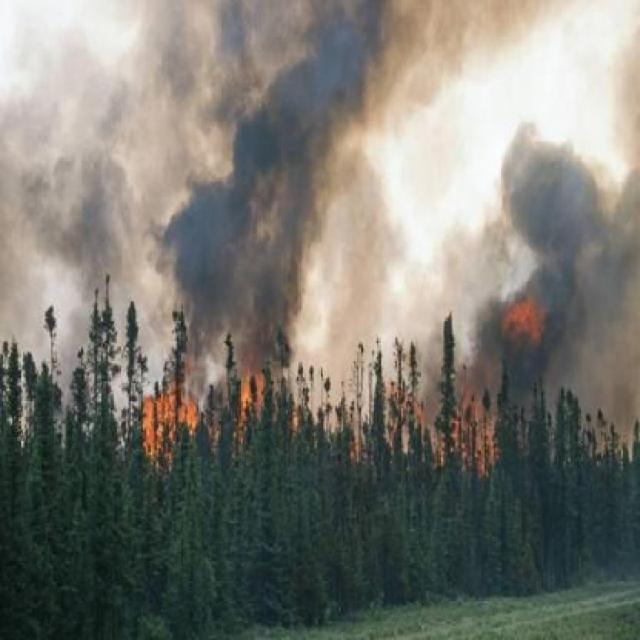Fire: (135, 348, 496, 472)
Smoke: (48, 7, 450, 340), (483, 130, 623, 398)
